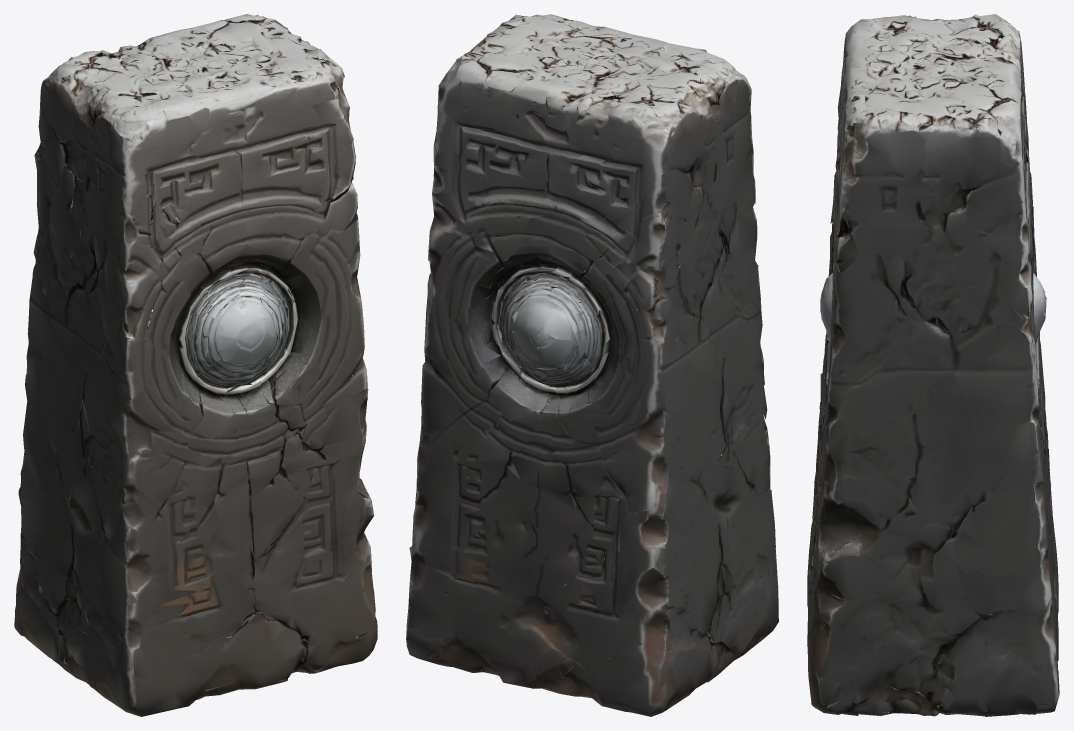
File: Ancient_Stone_Relic_town.glb
3 renders of one model, left to right at view 1: azimuth 30°, elevation 25°; view 2: azimuth 150°, elevation 25°; view 3: azimuth 270°, elevation 25°, orthographic.
Parts seen in each view (by area): view 1: Ancient_Stone_Relic; view 2: Ancient_Stone_Relic; view 3: Ancient_Stone_Relic.
Part boxes in pixels (box(x1,y1,x2,y2)): Ancient_Stone_Relic: box(14, 14, 377, 716); Ancient_Stone_Relic: box(406, 14, 778, 716); Ancient_Stone_Relic: box(807, 14, 1059, 716).
Size of the model in its own units: 0.8866 by 1.91 by 0.7361.
Materials: 1 (1 with a texture image).
